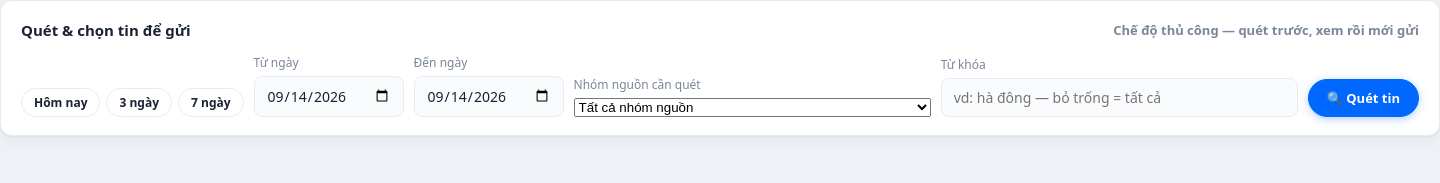
ScanReviewPanel › không tự hiển thị thông báo tòa đã full
Step 1. Click the button "🔍 Quét tin" → click(1363, 98), box x1=1308 y1=78 x2=1419 y2=116
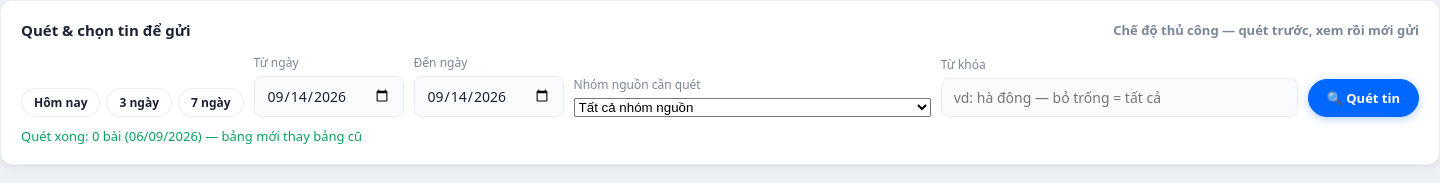
Result: the text "Quét xong: 0 bài (06/09/2026) — bảng mới thay bảng cũ" is shown at x1=21 y1=126 x2=362 y2=144
